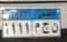1: (11, 23, 16, 36), (25, 23, 30, 35), (18, 23, 23, 35), (5, 22, 9, 35)
jeem: (41, 22, 50, 35)
meem: (34, 22, 40, 34)
noon: (51, 22, 59, 36)
